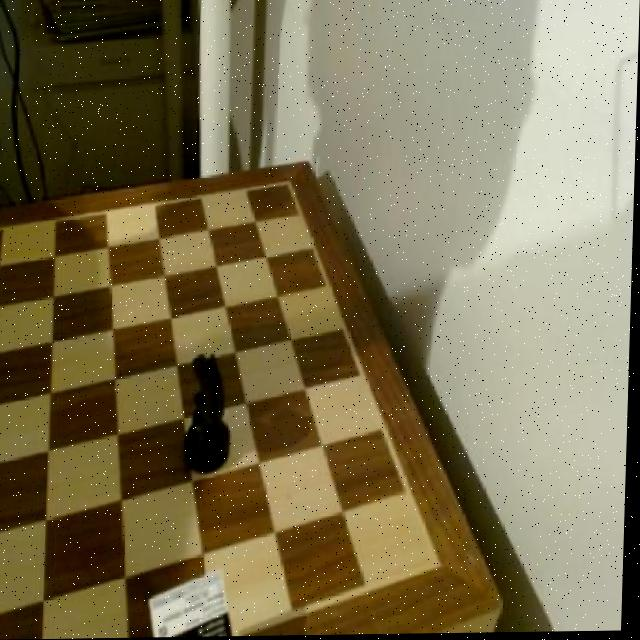black-king: (179, 345, 243, 481)
